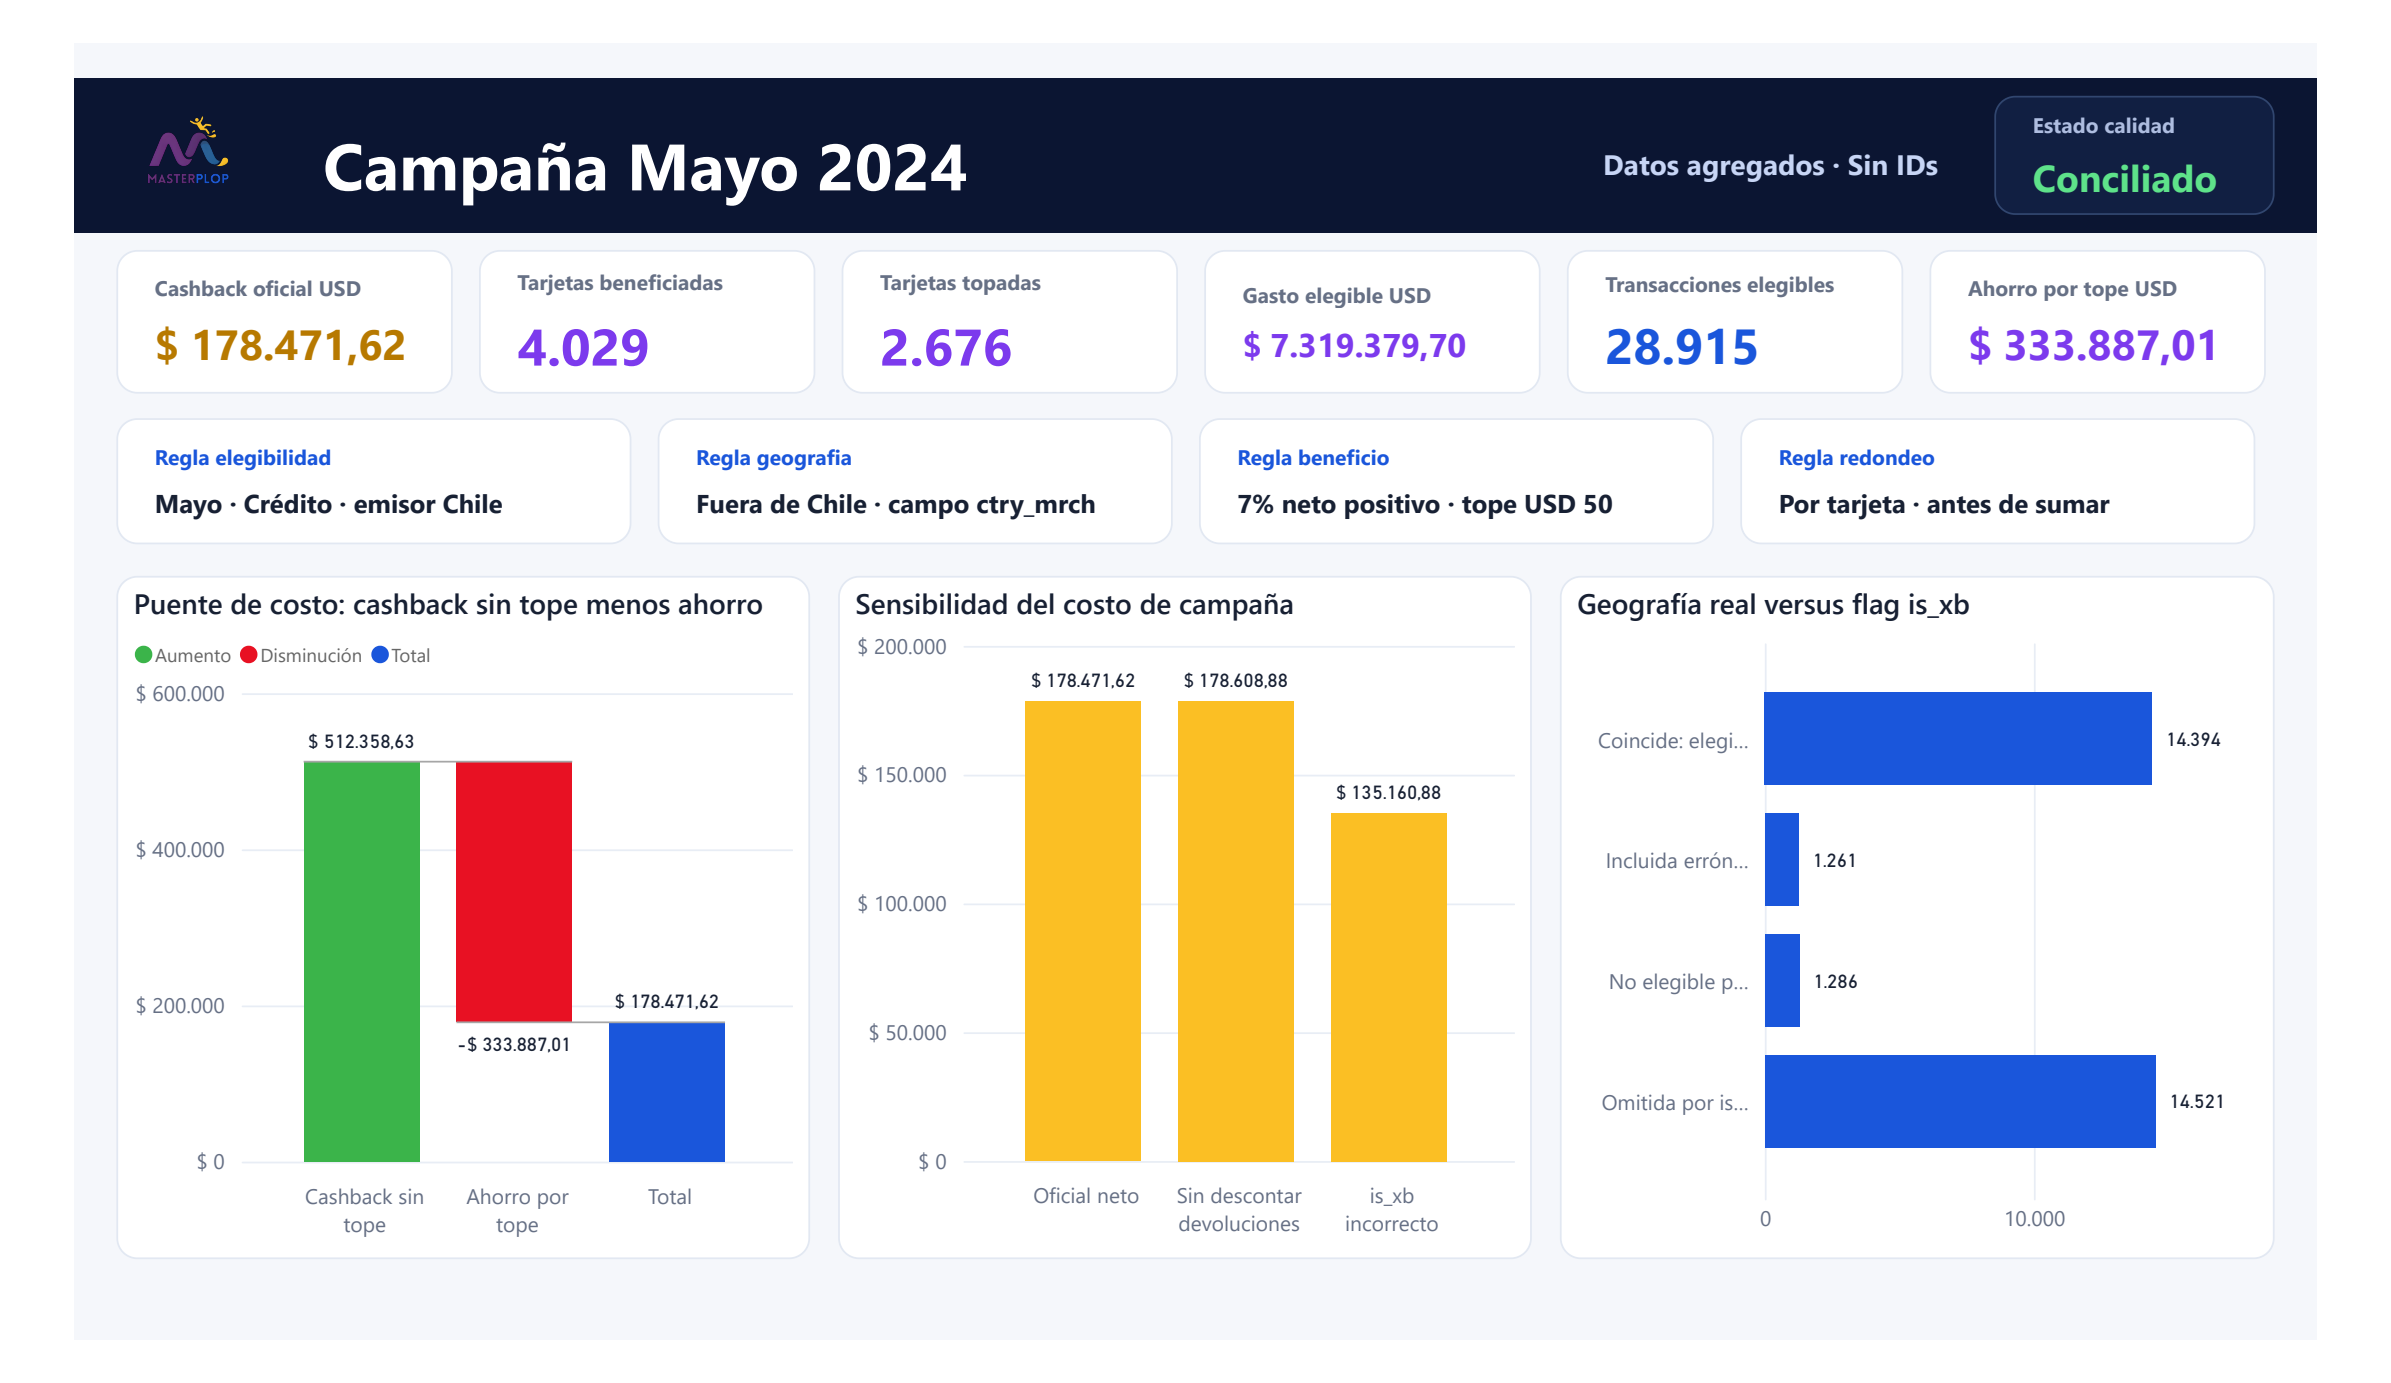

The page's visual inventory and layout, read from the dashboard file:
{"tool":"powerbi","page":{"name":"3 · Campaña Mayo 2024","canvas":[1280,720],"ordinal":2},"visuals":[{"type":"cardVisual","fields":{"Data":["executive.Fondo cabecera"]},"box":[0,0,1280,88],"z":0},{"type":"image","box":[20,9,90,70],"z":1},{"type":"cardVisual","fields":{"Data":["executive.Titulo campana"]},"box":[124,6,680,76],"z":2},{"type":"cardVisual","fields":{"Data":["executive.Subtitulo general"]},"box":[816,10,266,68],"z":3},{"type":"cardVisual","title":"Calidad de datos","fields":{"Data":["executive.Estado calidad"]},"box":[1096,10,160,68],"z":4},{"type":"cardVisual","title":"Cashback oficial USD","fields":{"Data":["executive.Cashback oficial USD"]},"box":[24,98,192,82],"z":10},{"type":"cardVisual","title":"Beneficiadas","fields":{"Data":["executive.Tarjetas beneficiadas"]},"box":[231,98,192,82],"z":11},{"type":"cardVisual","title":"Topadas","fields":{"Data":["executive.Tarjetas topadas"]},"box":[438,98,192,82],"z":12},{"type":"cardVisual","title":"Gasto elegible USD","fields":{"Data":["executive.Gasto elegible USD"]},"box":[645,98,192,82],"z":13},{"type":"cardVisual","title":"Tx elegibles","fields":{"Data":["executive.Transacciones elegibles"]},"box":[852,98,192,82],"z":14},{"type":"cardVisual","title":"Ahorro por tope USD","fields":{"Data":["executive.Ahorro por tope USD"]},"box":[1059,98,192,82],"z":15},{"type":"cardVisual","title":"1 · Elegibilidad","fields":{"Data":["executive.Regla elegibilidad"]},"box":[24,194,294,72],"z":20},{"type":"cardVisual","title":"2 · Geografía","fields":{"Data":["executive.Regla geografia"]},"box":[333,194,294,72],"z":21},{"type":"cardVisual","title":"3 · Beneficio","fields":{"Data":["executive.Regla beneficio"]},"box":[642,194,294,72],"z":22},{"type":"cardVisual","title":"4 · Redondeo","fields":{"Data":["executive.Regla redondeo"]},"box":[951,194,294,72],"z":23},{"type":"waterfallChart","title":"Puente de costo: cashback sin tope menos ahorro","fields":{"Category":["campaign_bridge.step"],"Y":["executive.Monto puente USD"]},"box":[24,284,396,390],"z":30},{"type":"clusteredColumnChart","title":"Sensibilidad del costo de campaña","fields":{"Category":["campaign_scenarios.scenario"],"Y":["executive.Monto escenario USD"]},"box":[436,284,396,390],"z":31},{"type":"clusteredBarChart","title":"Geografía real versus flag is_xb","fields":{"Category":["cashback_diagnostic.diagnostic_status"],"Y":["executive.Transacciones diagnostico"]},"box":[848,284,408,390],"z":32}]}

Visuals, with their boxes in screenshot pixels (x1, y1, x2, y2), scaled from the page's 1280x720 canvas onto the 2391x1383 screenshot:
cardVisual - executive.Fondo cabecera: select_region(0, 0, 2390, 169)
image: select_region(37, 17, 205, 152)
cardVisual - executive.Titulo campana: select_region(232, 12, 1502, 158)
cardVisual - executive.Subtitulo general: select_region(1524, 19, 2021, 150)
"Calidad de datos" cardVisual: select_region(2047, 19, 2346, 150)
"Cashback oficial USD" cardVisual: select_region(45, 188, 403, 346)
"Beneficiadas" cardVisual: select_region(432, 188, 790, 346)
"Topadas" cardVisual: select_region(818, 188, 1177, 346)
"Gasto elegible USD" cardVisual: select_region(1205, 188, 1563, 346)
"Tx elegibles" cardVisual: select_region(1592, 188, 1950, 346)
"Ahorro por tope USD" cardVisual: select_region(1978, 188, 2337, 346)
"1 · Elegibilidad" cardVisual: select_region(45, 373, 594, 511)
"2 · Geografía" cardVisual: select_region(622, 373, 1171, 511)
"3 · Beneficio" cardVisual: select_region(1199, 373, 1748, 511)
"4 · Redondeo" cardVisual: select_region(1776, 373, 2326, 511)
"Puente de costo: cashback sin tope menos ahorro" waterfallChart: select_region(45, 546, 785, 1295)
"Sensibilidad del costo de campaña" clusteredColumnChart: select_region(814, 546, 1554, 1295)
"Geografía real versus flag is_xb" clusteredBarChart: select_region(1584, 546, 2346, 1295)
